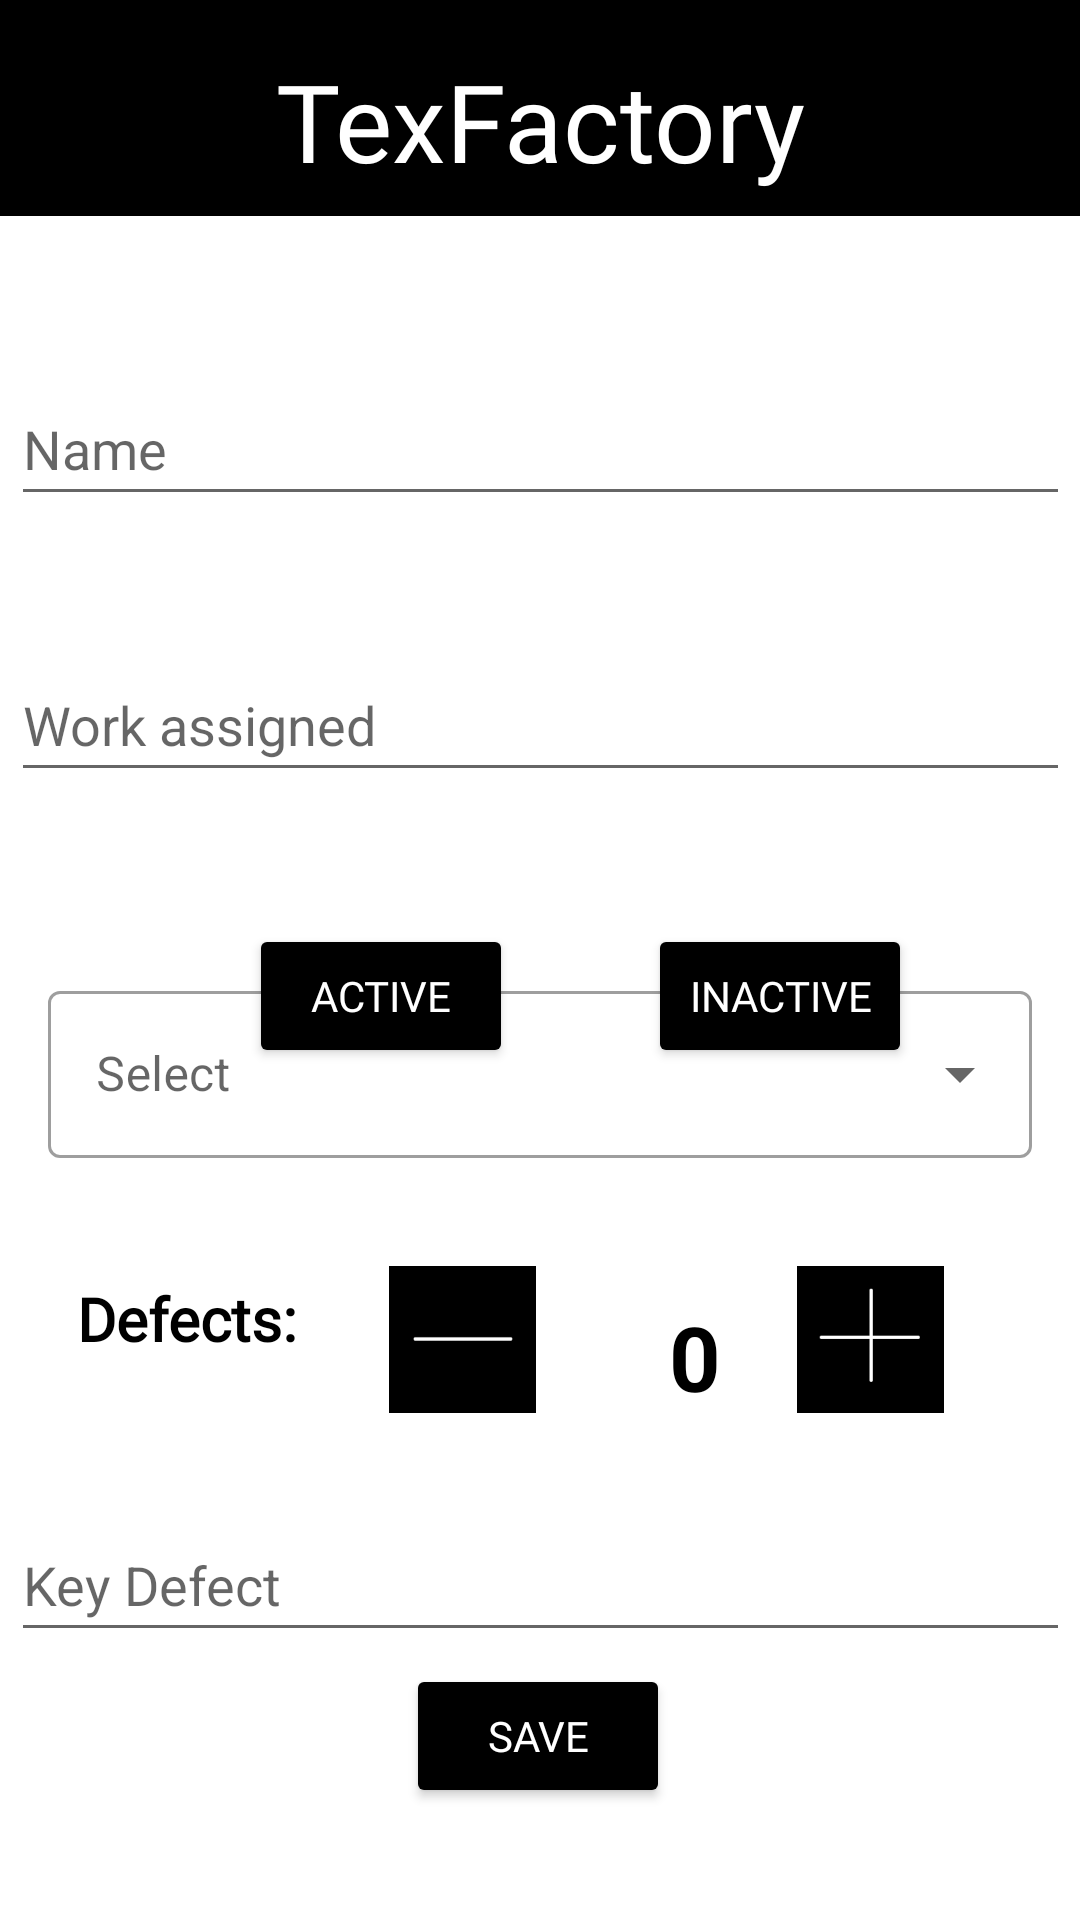

Icon click points for this 1080px×1920px phone screenshot, format (x,y):
minus: (462,1339)
plus: (870,1339)
